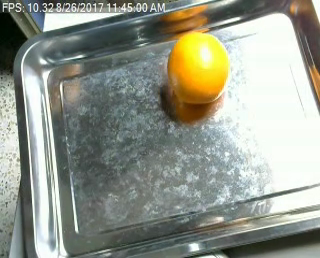Orange: (167, 29, 230, 104)
